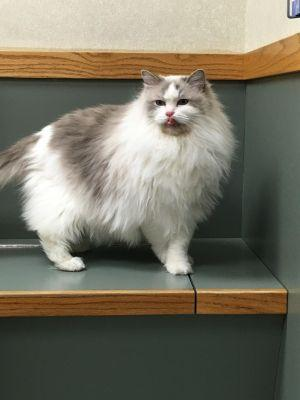ragdoll: (136, 63, 218, 144)
